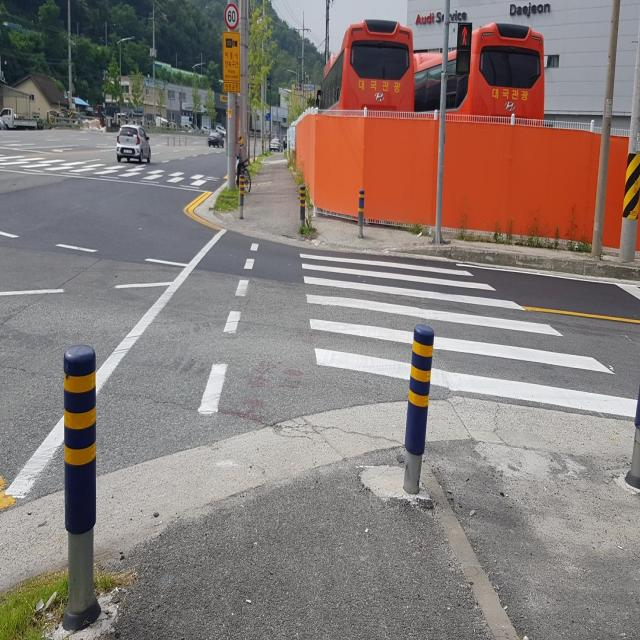횡단보도: (299, 252, 638, 419), (0, 156, 213, 191)
